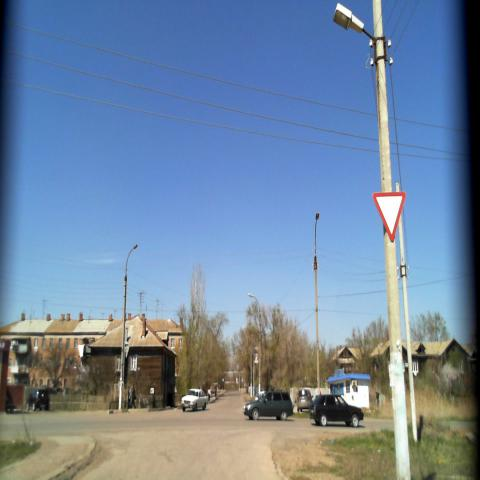2_4: (372, 191, 408, 242)
